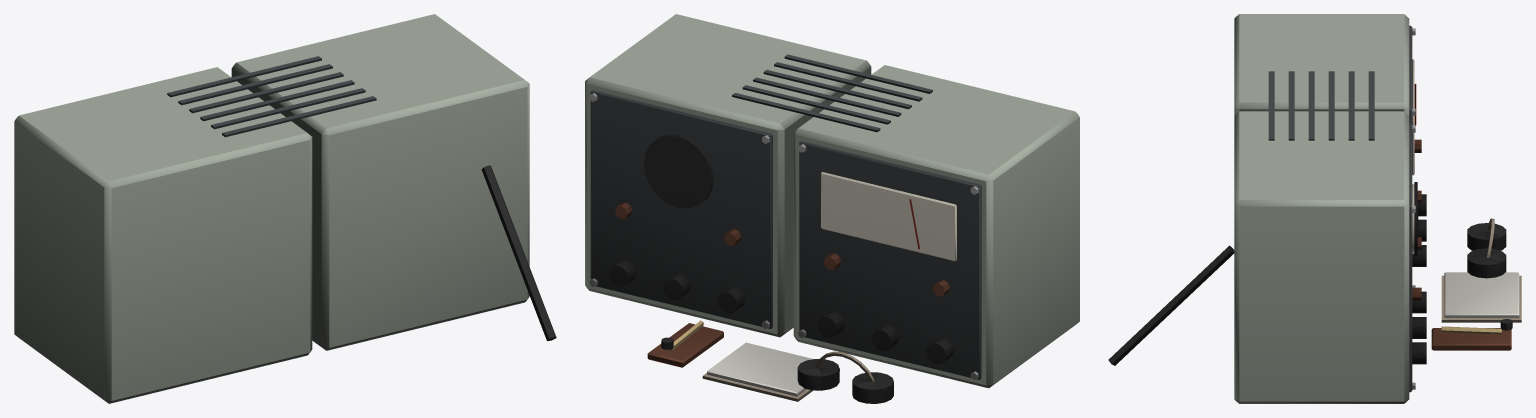
The model's file is obs_radio.glb.
3 renders of one model, left to right at view 1: azimuth 30°, elevation 25°; view 2: azimuth 150°, elevation 25°; view 3: azimuth 270°, elevation 25°, orthographic. The views are drawn at different scales.
Parts seen in each view (by area): view 1: static; view 2: static; view 3: static.
Boxes of the visible parts, box(x1,y1,x2,y2) form: static: box(14, 14, 556, 403); static: box(585, 14, 1079, 403); static: box(1108, 14, 1521, 403).
Bounding box in the file's own units: 0.9 × 0.454 × 0.8269.
